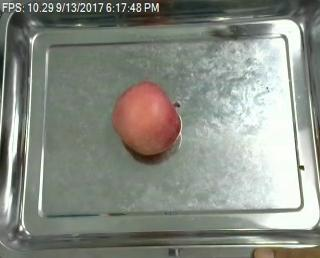apple: (112, 81, 182, 156)
